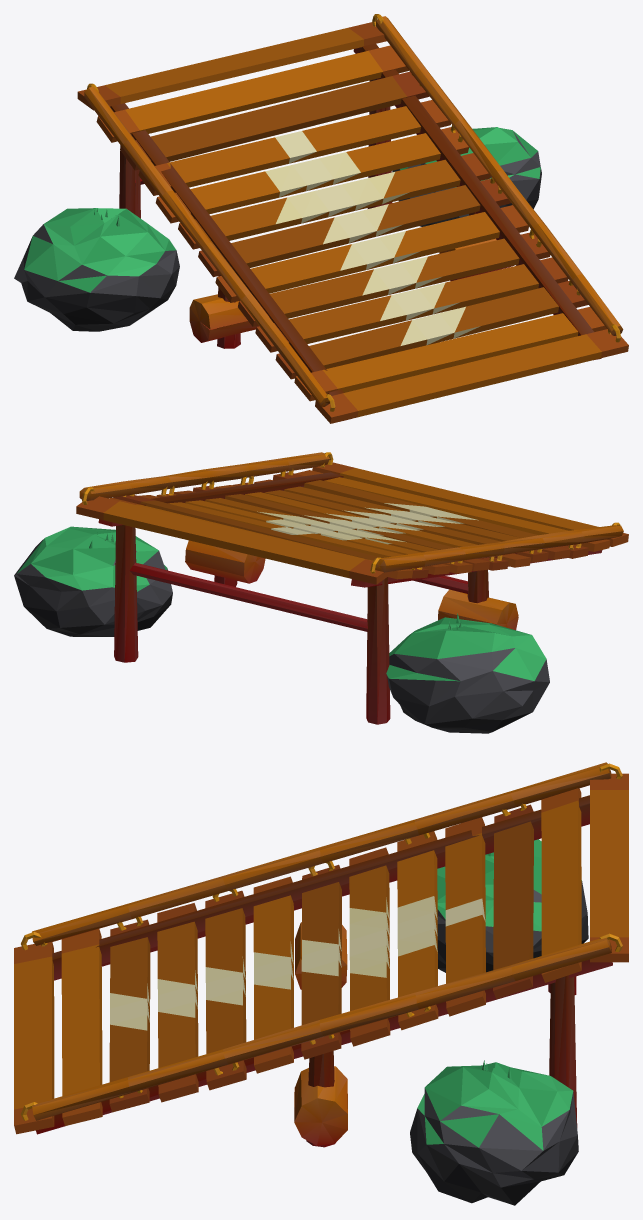
File: riverrush_short_ramp_shrine_414754 (1).glb
3 renders of one model, top to bottom at view 1: azimuth 30°, elevation 25°; view 2: azimuth 150°, elevation 25°; view 3: azimuth 270°, elevation 25°, orthographic. The views are drawn at different scales.
Parts seen in each view (by area): view 1: Tanjakan_Jumping_Pendek; view 2: Tanjakan_Jumping_Pendek; view 3: Tanjakan_Jumping_Pendek.
Part boxes in pixels (<box>): Tanjakan_Jumping_Pendek: <box>14,14,628,423</box>; Tanjakan_Jumping_Pendek: <box>14,452,628,733</box>; Tanjakan_Jumping_Pendek: <box>14,762,628,1205</box>.
Bounding box in the file's own units: 9.56 × 3.45 × 8.21.
